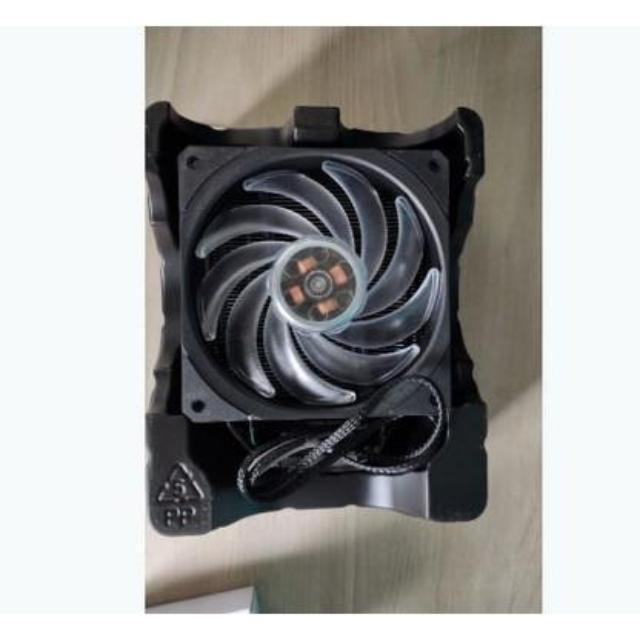CPU_Fan: (182, 140, 454, 468)
